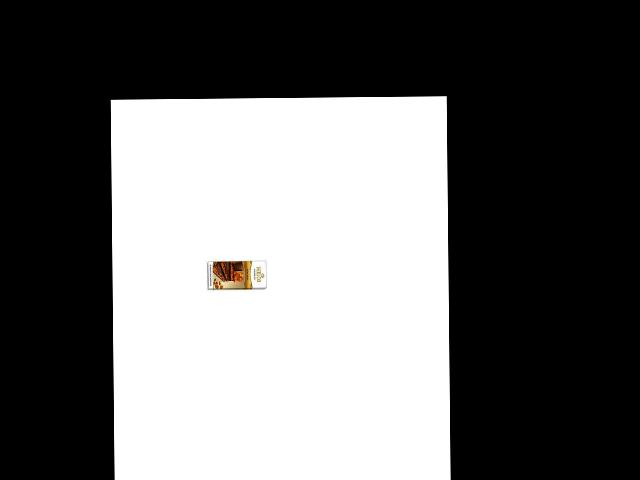chocolate: (205, 254, 269, 301)
